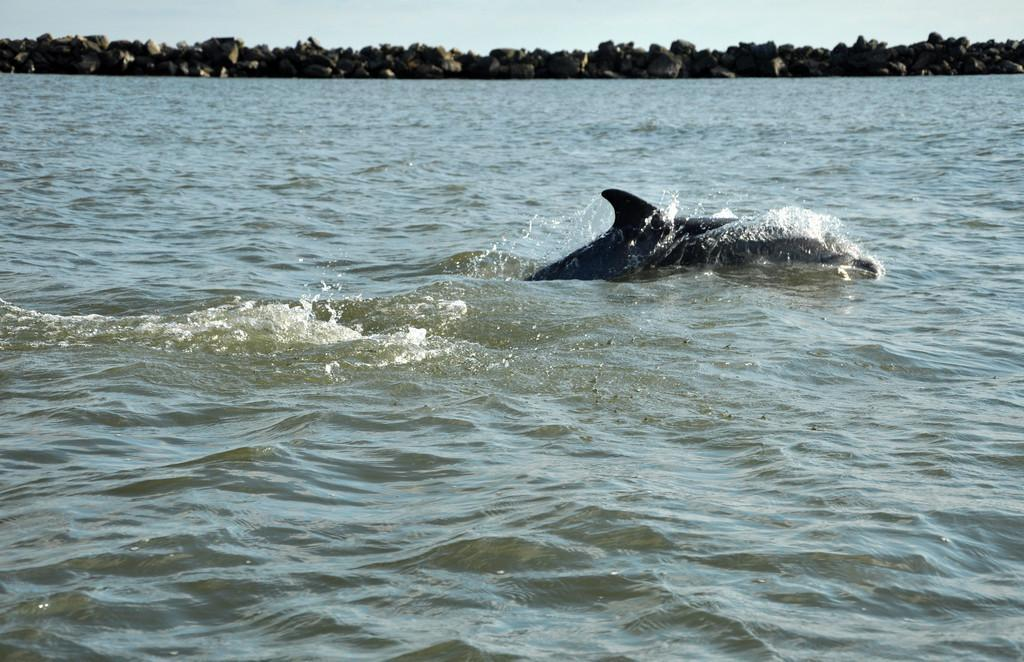fish: (537, 180, 894, 287)
